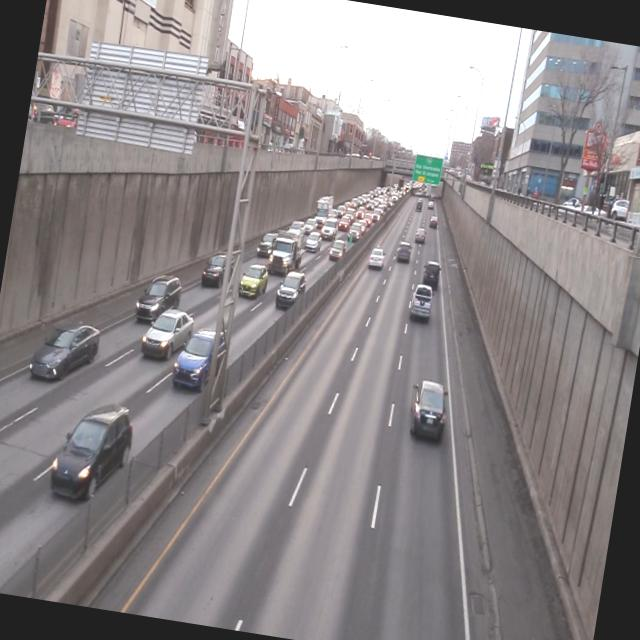Vehicle: (46, 395, 136, 513), (27, 311, 102, 398), (168, 322, 232, 401), (138, 308, 196, 368), (133, 268, 183, 328), (407, 378, 450, 444), (267, 226, 308, 280), (199, 248, 236, 294), (273, 269, 307, 312), (237, 262, 269, 303), (408, 282, 436, 324), (420, 258, 444, 288), (255, 230, 278, 258), (366, 246, 387, 273), (327, 238, 349, 262), (304, 230, 324, 254), (396, 240, 414, 266), (286, 218, 306, 240), (412, 226, 428, 245)
